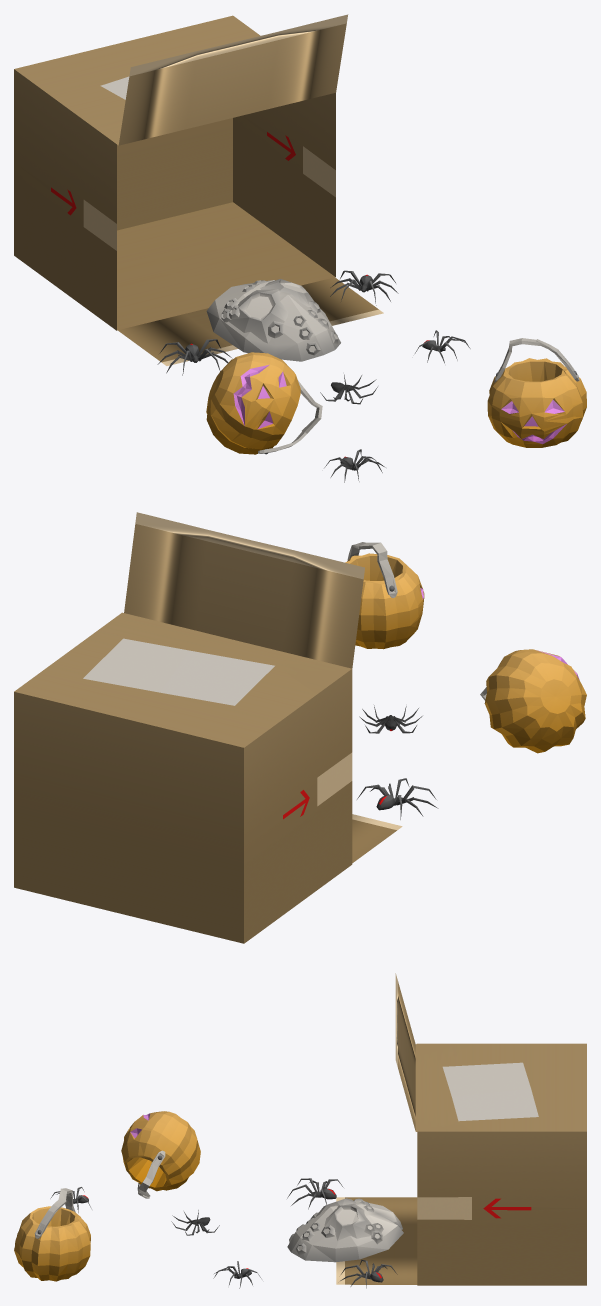
The model's file is obj_halloweenBox.fbx.
3 renders of one model, top to bottom at view 1: azimuth 30°, elevation 25°; view 2: azimuth 150°, elevation 25°; view 3: azimuth 270°, elevation 25°, orthographic. The views are drawn at different scales.
Visible parts, largest first — view 1: geo_halloweenBox; view 2: geo_halloweenBox; view 3: geo_halloweenBox.
Boxes of the visible parts, x1,y1,x2,y2 form: geo_halloweenBox: (14,14,586,482); geo_halloweenBox: (14,512,586,943); geo_halloweenBox: (14,973,586,1288).
Size of the model in its own units: 106 by 89.22 by 205.
Materials: 5 (5 with a texture image).
